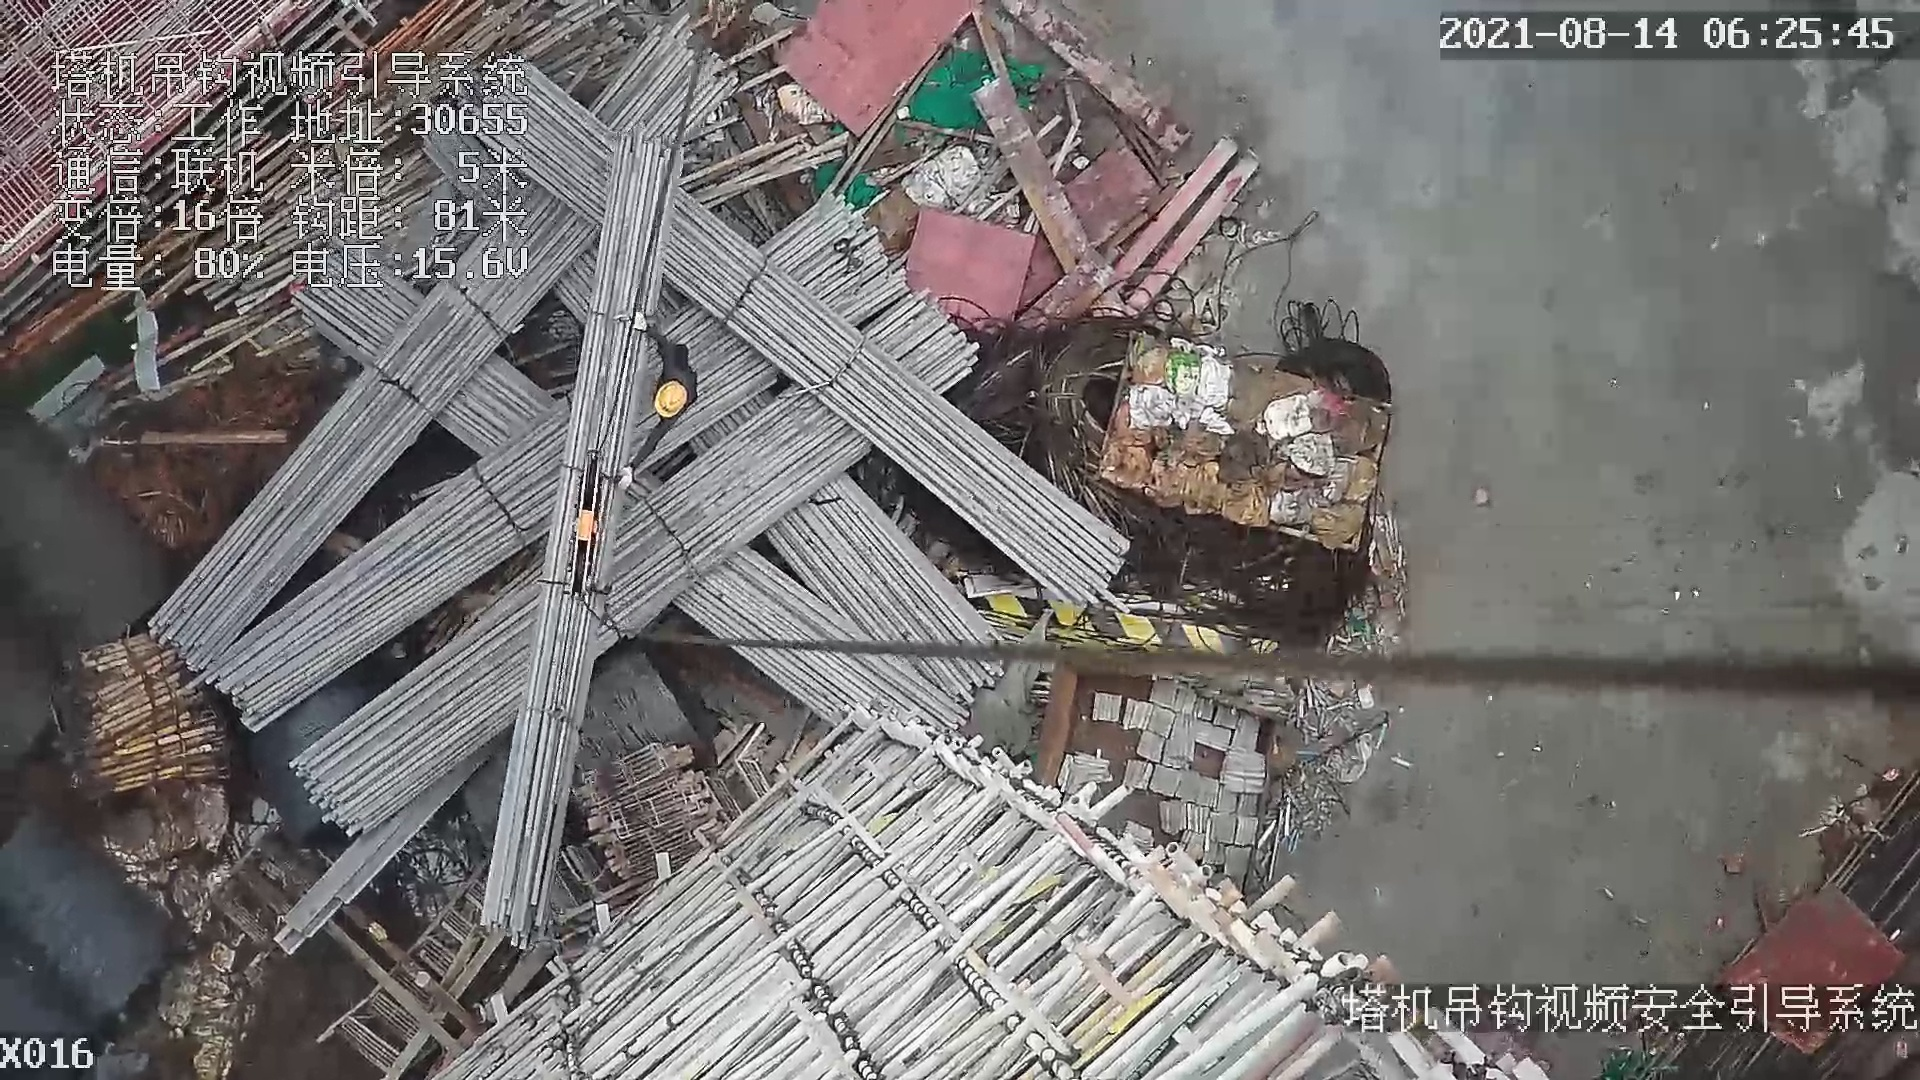helmet: (651, 382, 688, 423)
hook: (565, 436, 603, 603)
person: (640, 313, 706, 494)
